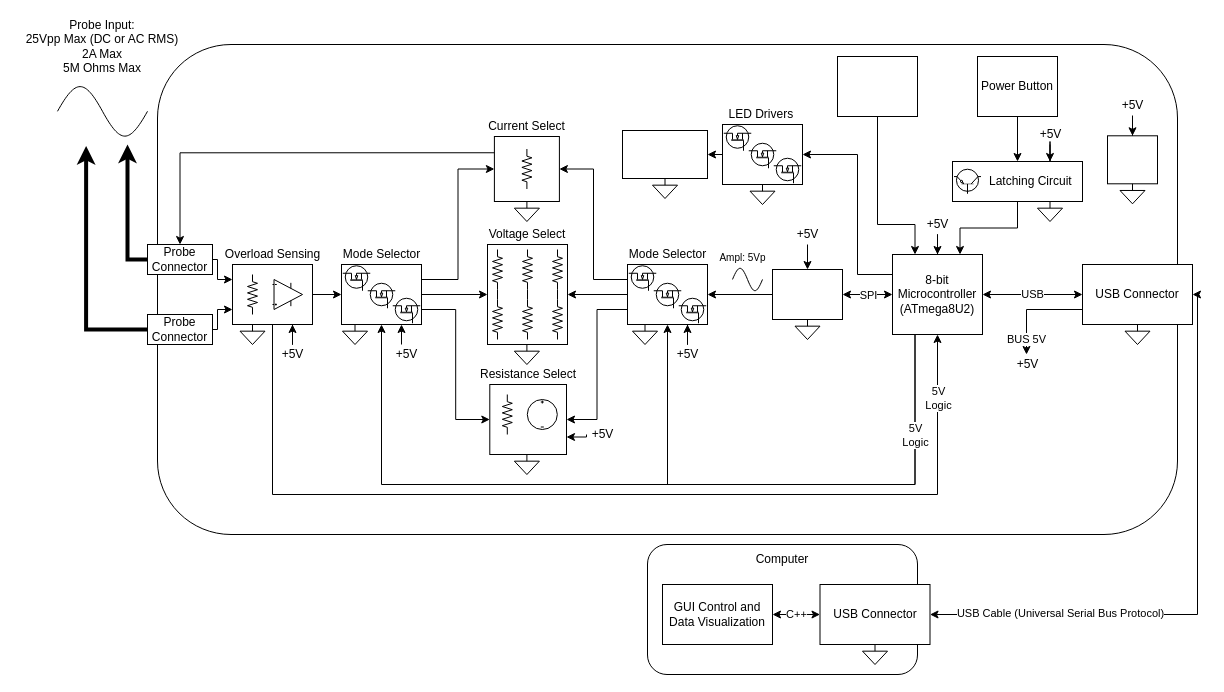
Image size: 1224x692. Some labels were removed from this diagram. The centre of each missing label's shape, as x and y in pixels:
"ADC ( ADC081S021 )" goes at (807,294).
"Power LED Indicator" goes at (1132,159).
"Reset Button" goes at (877,86).
"State LED Array" goes at (665,154).
